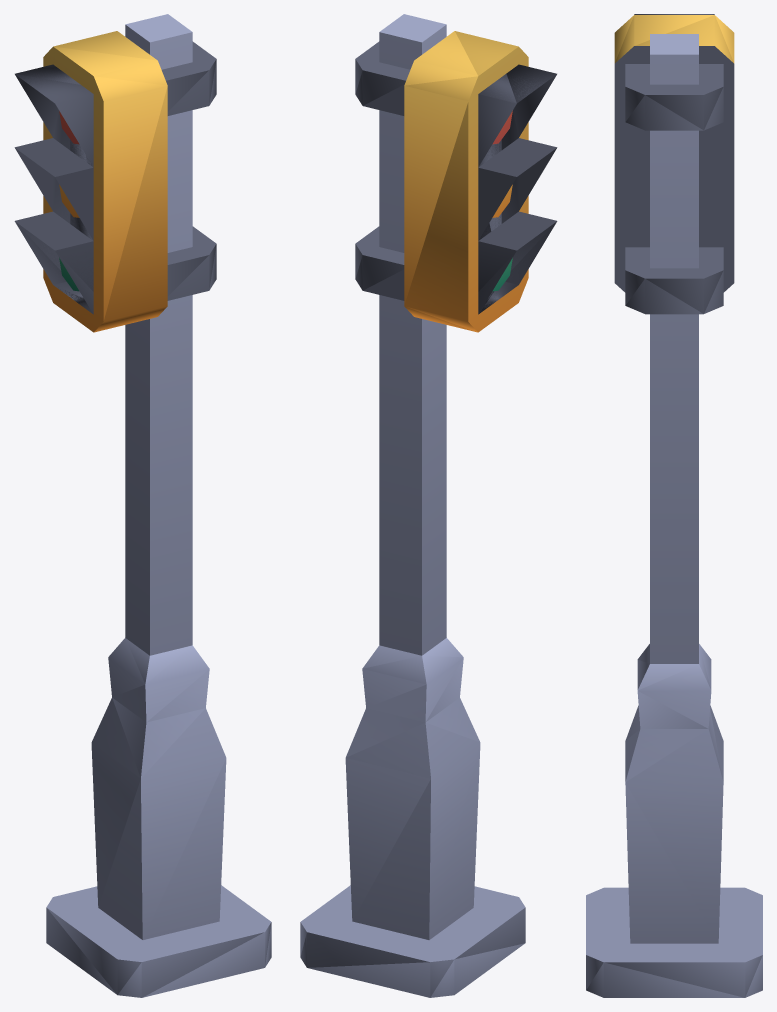
Rendered from kr_traffic_light.fbx.
3 renders of one model, left to right at view 1: azimuth 30°, elevation 25°; view 2: azimuth 150°, elevation 25°; view 3: azimuth 270°, elevation 25°, orthographic.
Parts seen in each view (by area): view 1: kr_traffic_light; view 2: kr_traffic_light; view 3: kr_traffic_light.
Boxes of the visible parts, left/top/right/bottom form: kr_traffic_light: left=14, top=14, right=271, bottom=997; kr_traffic_light: left=300, top=14, right=557, bottom=997; kr_traffic_light: left=586, top=14, right=762, bottom=997.
Bounding box in the file's own units: 0.9996 × 4.38 × 0.765.
